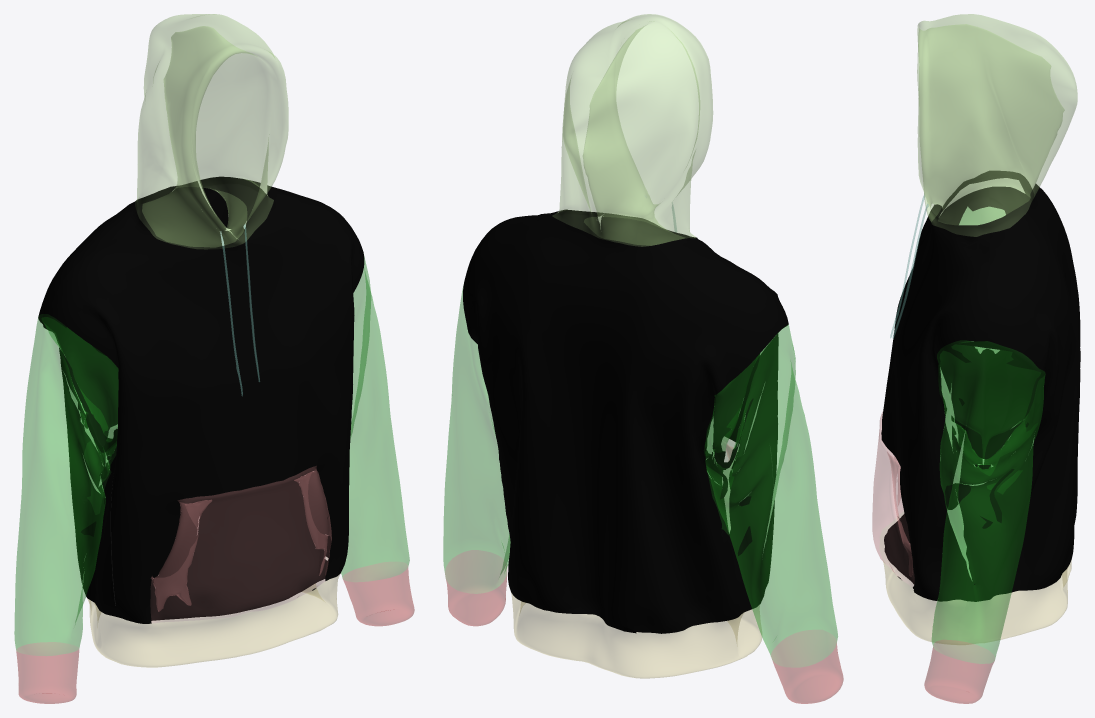
The model's file is Hoodie_Revision2.glb.
3 views of the same model, side by side, from view 1: azimuth 30°, elevation 25°; view 2: azimuth 150°, elevation 25°; view 3: azimuth 270°, elevation 25° (orthographic). The views are drawn at different scales.
Visible parts, largest first — view 1: Group44853, Group43482, Group18032, Group36658, Group32806, Object001, Group12817, Object002, Group64703, Object003, Group65254; view 2: Group32806, Group43482, Group18032, Group44853, Object001, Object003, Group64703, Object002, Group12817; view 3: Group44853, Group32806, Group43482, Object001, Object003, Group36658, Group12817, Object002, Group18032, Group65254.
Boxes of the visible parts, <box> form: Group44853: <box>48,194,364,623</box>; Group43482: <box>135,14,288,249</box>; Group18032: <box>14,314,118,655</box>; Group36658: <box>150,466,331,622</box>; Group32806: <box>38,176,324,597</box>; Object001: <box>341,258,409,581</box>; Group12817: <box>95,557,339,667</box>; Object002: <box>343,562,414,625</box>; Group64703: <box>16,642,78,703</box>; Object003: <box>87,579,329,649</box>; Group65254: <box>220,224,259,395</box>; Group32806: <box>463,212,777,633</box>; Group43482: <box>553,14,712,246</box>; Group18032: <box>704,324,837,667</box>; Group44853: <box>496,209,788,616</box>; Object001: <box>443,289,510,593</box>; Object003: <box>511,593,744,678</box>; Group64703: <box>771,630,843,703</box>; Object002: <box>445,550,507,625</box>; Group12817: <box>727,605,761,657</box>; Group44853: <box>881,171,990,601</box>; Group32806: <box>978,171,1080,599</box>; Group43482: <box>917,14,1077,236</box>; Object001: <box>932,340,1045,663</box>; Object003: <box>959,560,1071,644</box>; Group36658: <box>872,412,914,586</box>; Group12817: <box>880,512,966,644</box>; Object002: <box>924,640,994,703</box>; Group18032: <box>959,207,1005,353</box>; Group65254: <box>890,195,928,338</box>.
Bounding box in the file's own units: 0.022 × 0.0345 × 0.0108.
